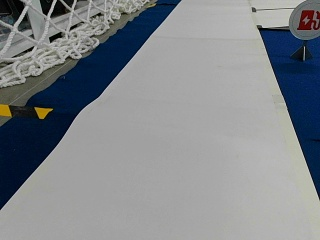battery: (289, 0, 320, 40)
